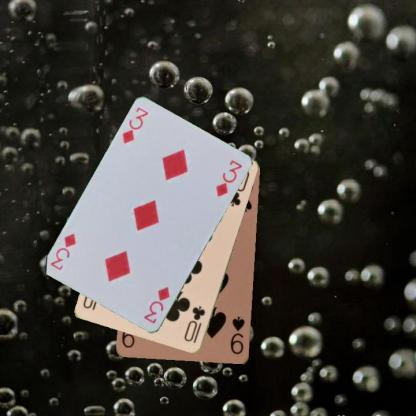10c: (181, 303, 207, 345)
3d: (141, 284, 172, 326), (120, 104, 150, 146)
9s: (228, 314, 246, 356)
